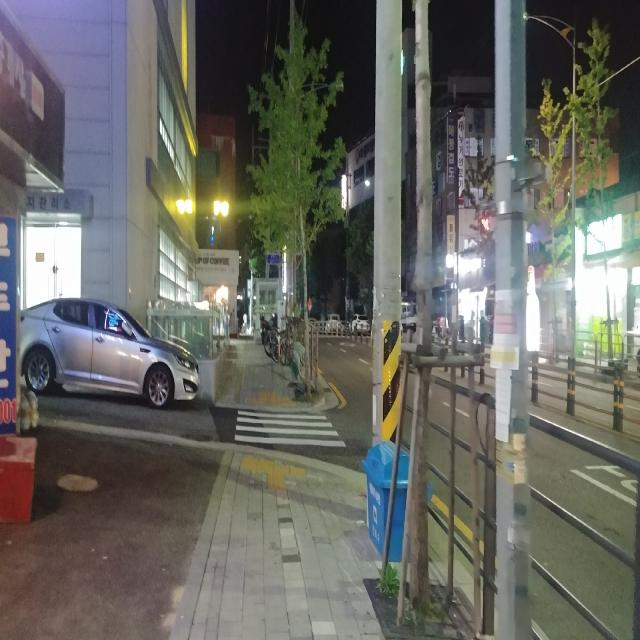횡단보도: (234, 409, 347, 448)
